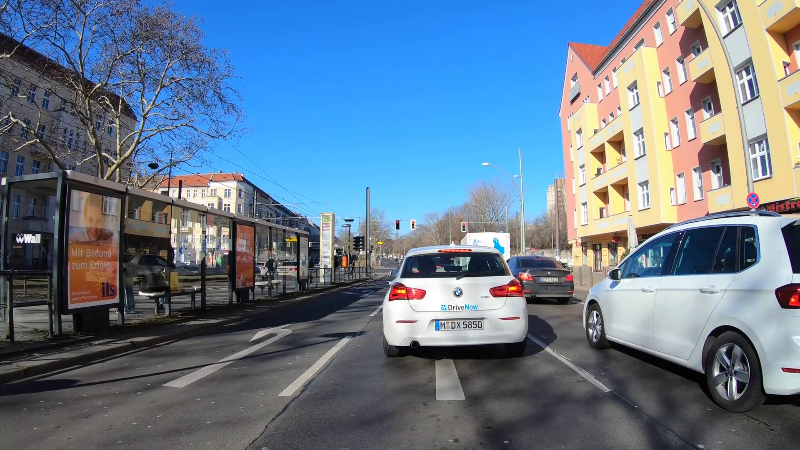Plate: (433, 318, 485, 331)
